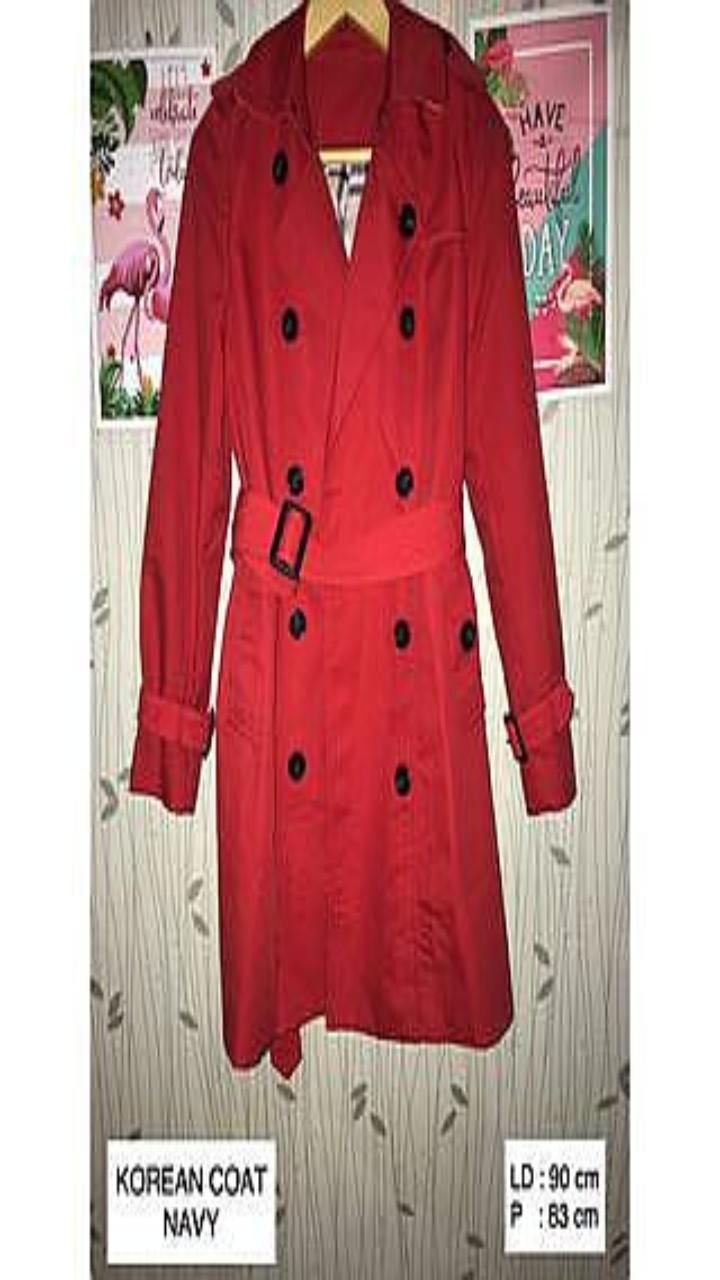Coat: (130, 0, 575, 1075)
